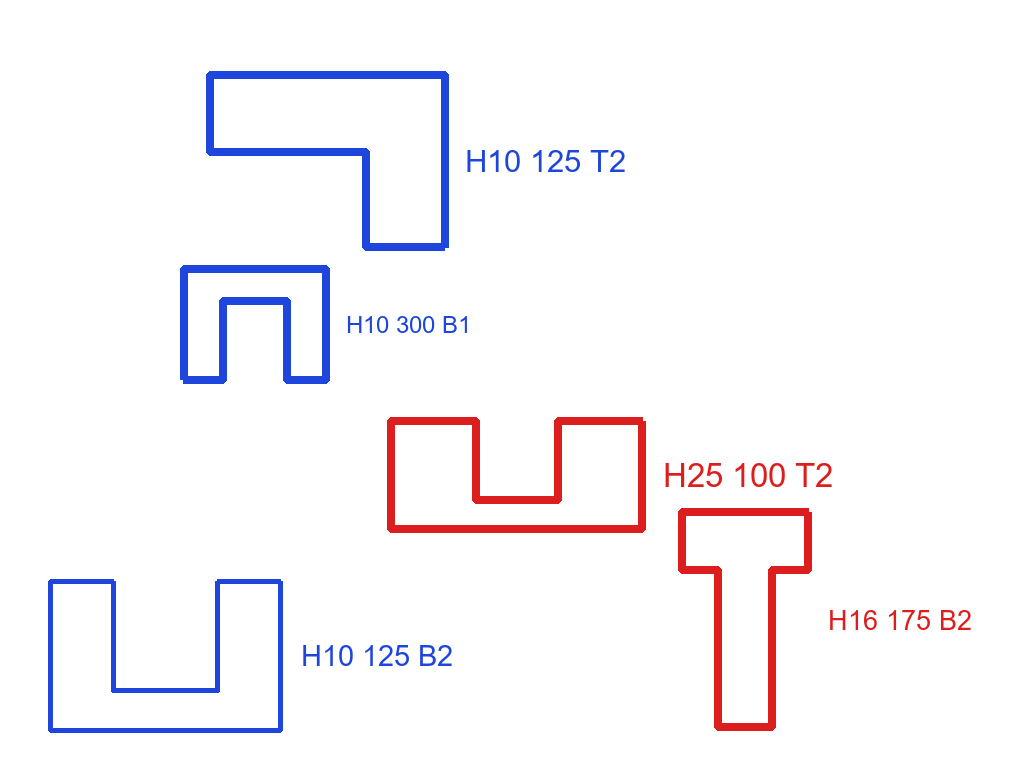shape: (204, 68, 451, 253), (46, 577, 285, 735), (385, 416, 649, 535), (675, 507, 814, 732), (178, 264, 332, 386)
text: (661, 461, 835, 489), (463, 148, 628, 174), (299, 643, 455, 668), (826, 608, 974, 632), (344, 314, 473, 335)
